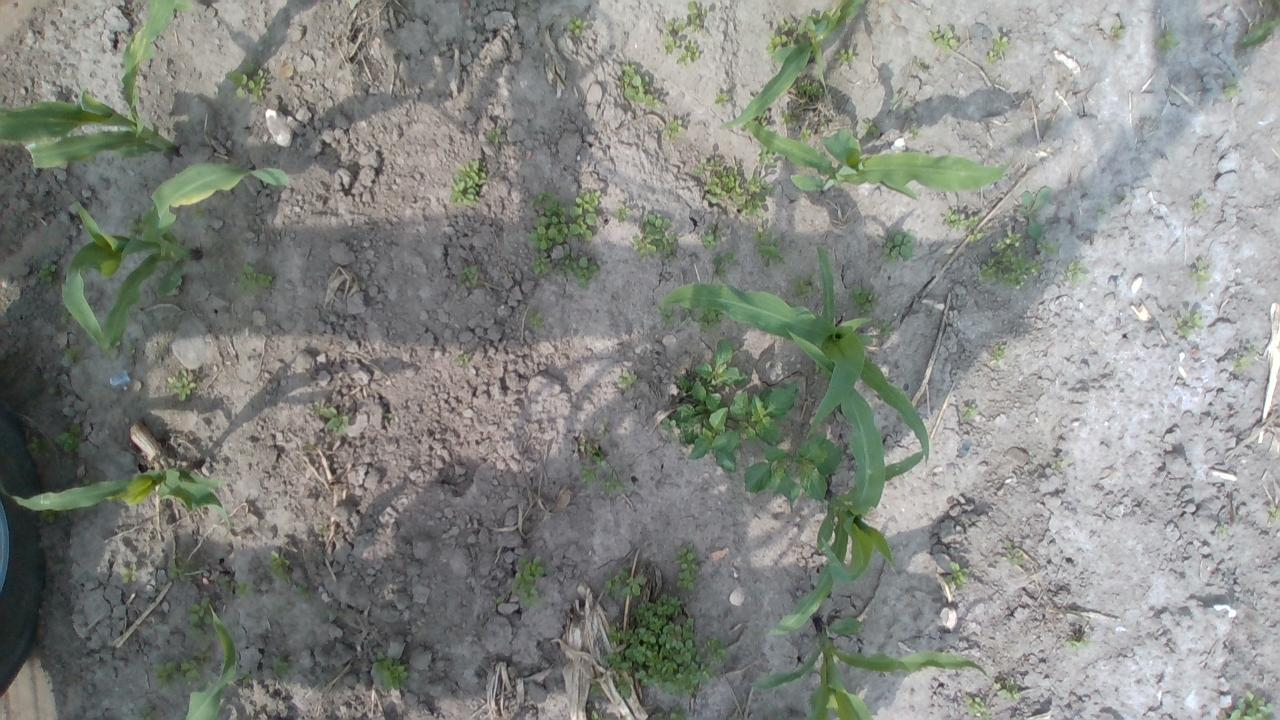Maize: (659, 244, 930, 466), (768, 330, 923, 639), (61, 160, 290, 358), (0, 0, 193, 167), (740, 109, 1015, 203), (754, 614, 990, 720), (722, 0, 868, 128), (0, 466, 235, 528), (186, 603, 240, 720)
Weeds: (658, 340, 800, 474), (624, 594, 730, 698), (744, 431, 842, 503), (526, 190, 602, 252), (704, 168, 776, 221), (978, 230, 1040, 288), (632, 212, 678, 260), (620, 62, 664, 111), (1237, 0, 1280, 50), (1016, 187, 1051, 240), (448, 158, 488, 204), (224, 63, 266, 104), (557, 248, 600, 288), (512, 558, 544, 608), (601, 566, 649, 598), (672, 542, 701, 594), (1224, 691, 1276, 720), (184, 595, 216, 639), (750, 226, 786, 265), (372, 652, 408, 690), (238, 262, 272, 297), (312, 402, 350, 433), (580, 444, 608, 485), (882, 228, 913, 263), (168, 368, 198, 402), (849, 286, 880, 318), (927, 23, 958, 54), (54, 423, 82, 454), (269, 550, 293, 584), (942, 207, 976, 231), (1173, 310, 1202, 338), (152, 660, 178, 690), (943, 560, 968, 591), (986, 34, 1010, 66), (598, 650, 632, 672), (686, 0, 708, 33), (796, 78, 826, 102), (180, 656, 203, 687), (457, 262, 482, 290), (767, 31, 794, 56), (712, 250, 736, 278), (602, 472, 628, 497), (791, 272, 816, 298), (696, 310, 720, 337), (992, 679, 1020, 702), (1189, 260, 1210, 289), (1155, 31, 1179, 56), (1066, 262, 1089, 288), (676, 41, 700, 65), (1232, 348, 1256, 372), (700, 222, 719, 250), (36, 260, 56, 286), (964, 694, 986, 717), (528, 255, 552, 276), (654, 706, 690, 720), (756, 144, 778, 166), (662, 118, 684, 140), (566, 15, 587, 38), (234, 578, 256, 599), (1000, 543, 1024, 562), (666, 15, 690, 34), (868, 320, 892, 338), (62, 344, 86, 362), (658, 304, 676, 328), (661, 34, 680, 56), (270, 655, 288, 678), (168, 558, 188, 578), (526, 310, 544, 332), (860, 119, 880, 138), (615, 678, 633, 699), (119, 566, 140, 584), (777, 17, 799, 34), (1222, 78, 1239, 100), (836, 47, 856, 65), (992, 340, 1008, 362), (128, 214, 144, 236), (296, 582, 314, 601), (1190, 194, 1209, 212), (617, 369, 637, 386), (607, 624, 624, 644), (1111, 18, 1126, 40), (614, 205, 633, 222), (679, 308, 693, 330), (454, 352, 472, 368), (688, 160, 704, 178), (486, 127, 502, 145), (960, 402, 976, 418), (968, 228, 984, 244), (1040, 240, 1056, 256), (239, 671, 254, 688), (757, 111, 770, 130), (590, 709, 612, 720), (164, 231, 180, 246), (1068, 638, 1088, 650), (136, 705, 152, 720), (1267, 504, 1280, 522), (799, 127, 812, 144), (912, 59, 929, 72), (195, 645, 212, 657), (1054, 459, 1072, 470), (61, 306, 72, 324), (590, 679, 602, 694), (714, 93, 729, 105), (781, 110, 792, 126), (1218, 522, 1229, 537), (704, 158, 720, 168), (888, 95, 898, 111), (820, 115, 830, 129), (218, 576, 228, 589), (494, 595, 506, 605), (910, 127, 919, 140)
